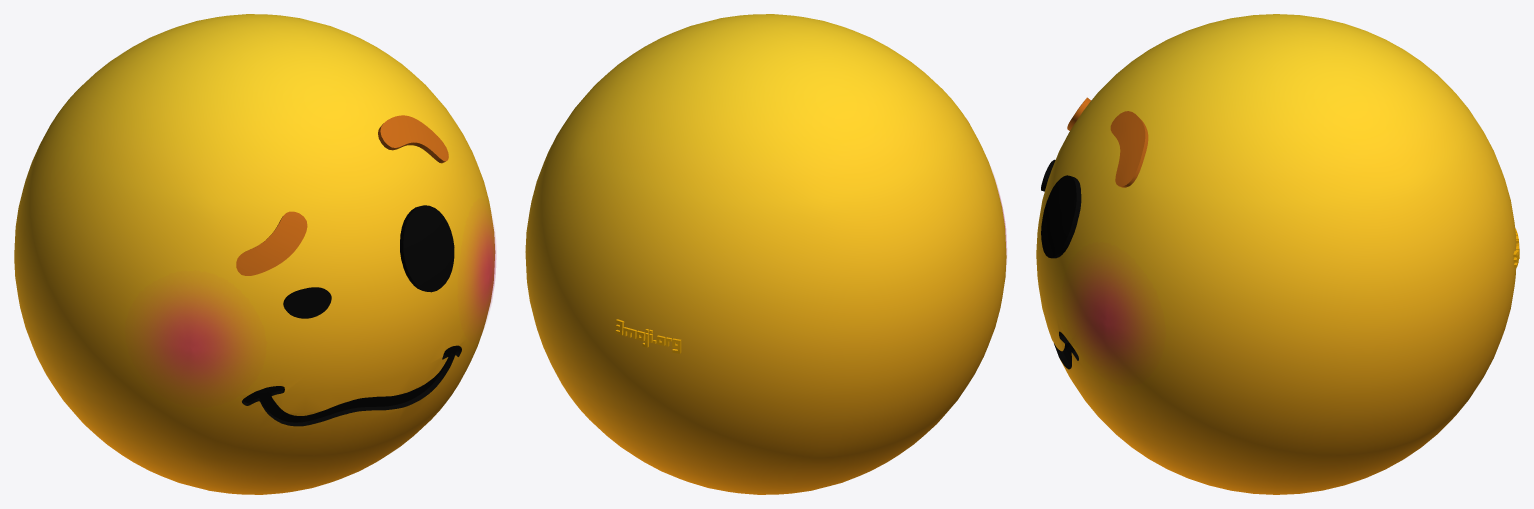
File: woozy_face.gltf
The picture shows the model from 3 angles, left to right: view 1: azimuth 30°, elevation 25°; view 2: azimuth 150°, elevation 25°; view 3: azimuth 270°, elevation 25°; orthographic projection.
Parts seen in each view (by area): view 1: Woozy Face; view 2: Woozy Face; view 3: Woozy Face.
Boxes of the visible parts, x1,y1,x2,y2 form: Woozy Face: (14,14,495,494); Woozy Face: (525,14,1006,494); Woozy Face: (1036,14,1519,494).
Size of the model in its own units: 1.69 by 1.69 by 1.7.
2 materials, 2 textured.
